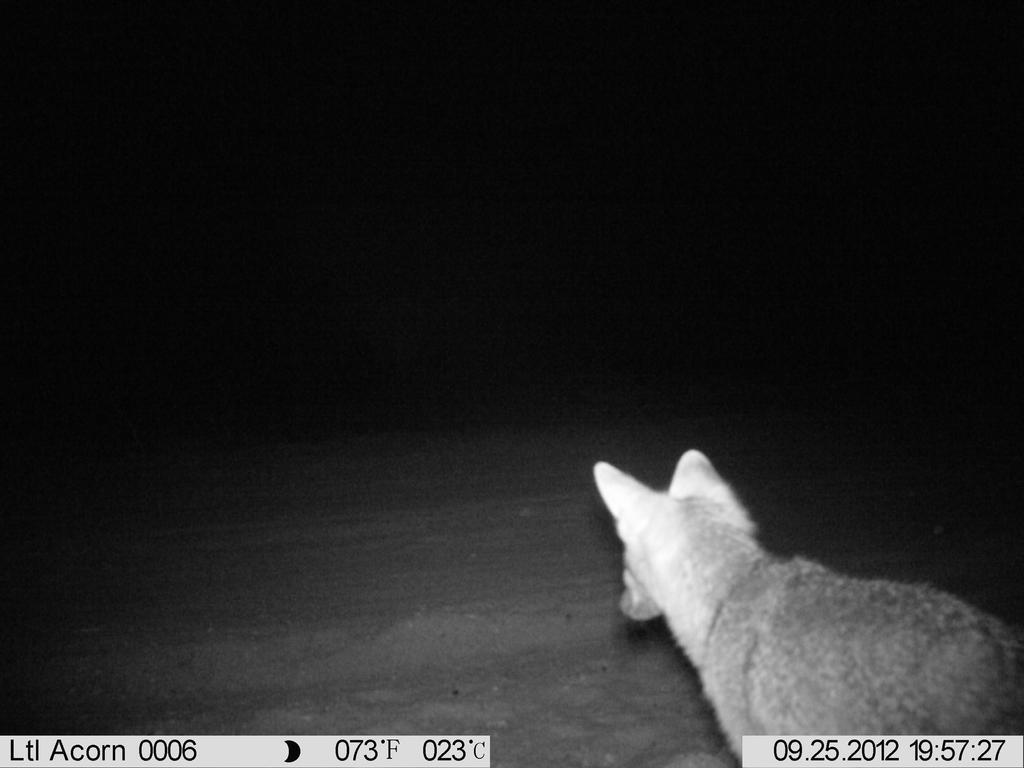fox: (588, 443, 1021, 763)
